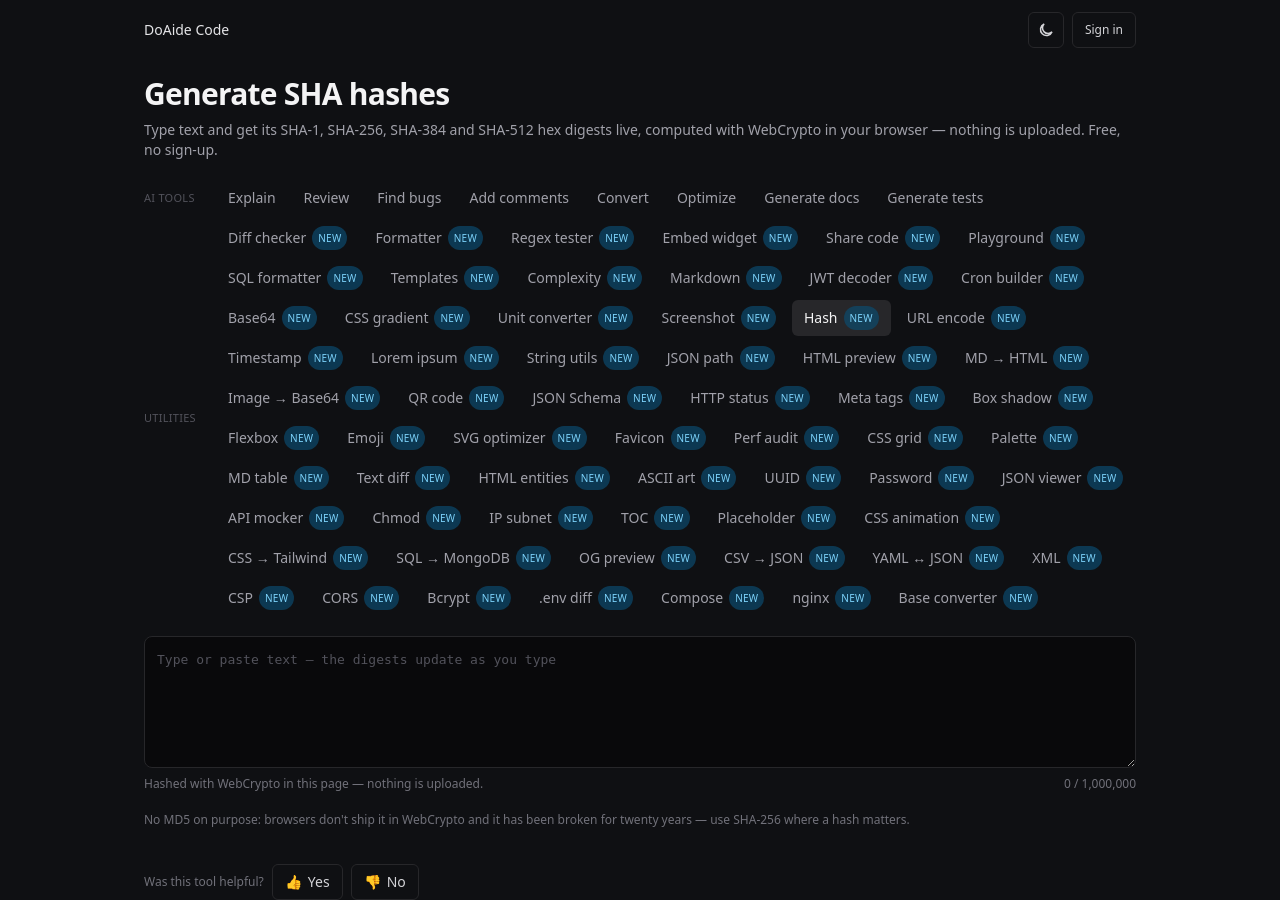
Test: HashPage › hashes as you type
Check: the heading reads "Generate SHA hashes", box [144,73,449,114]
Type "hello" into the text box with test id "hash-in" at (640, 702), box [144,636,1136,768]
(page scrolled)
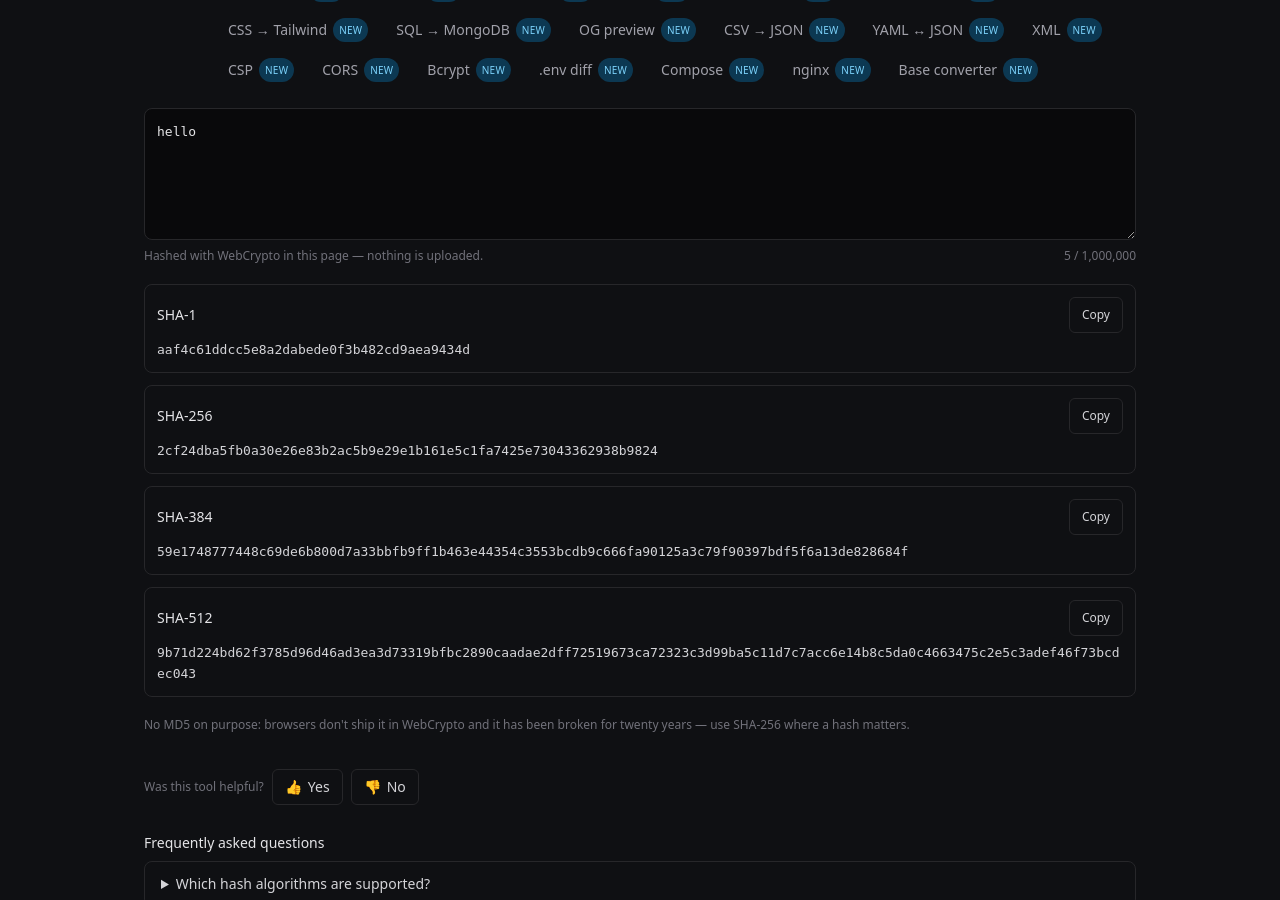
Check: the text with test id "hash-SHA-256" reads "2cf24dba5fb0a30e26e83b2ac5b9e29e1b161e5c1fa7425e73043362938b9824", box [157,443,658,458]
